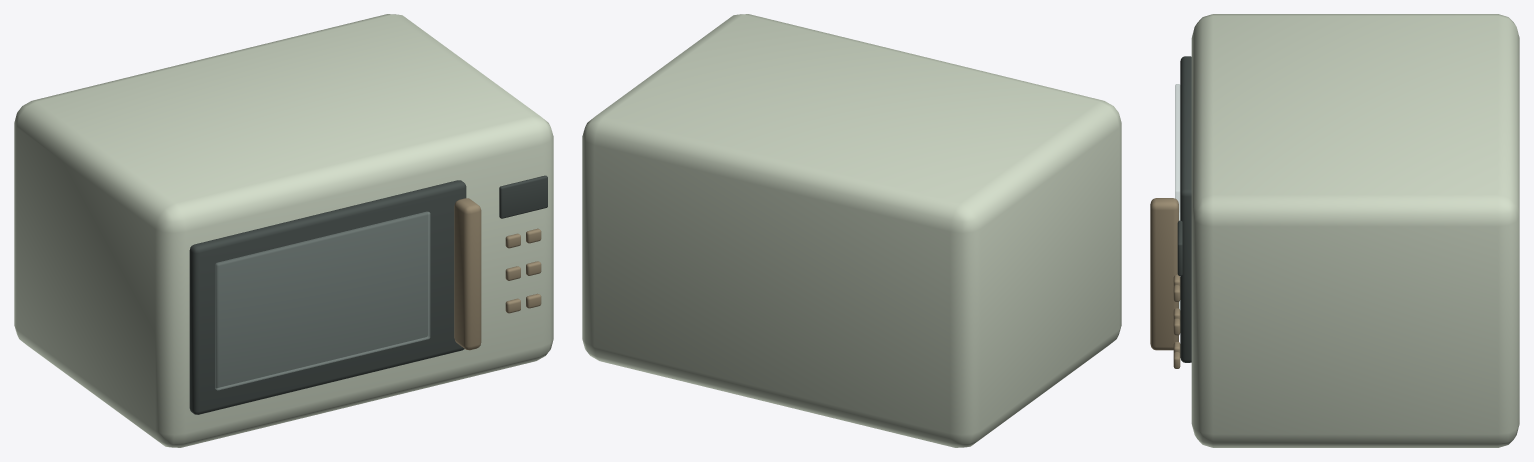
The model's file is countertop-microwave.glb.
3 views of the same model, side by side, from view 1: azimuth 30°, elevation 25°; view 2: azimuth 150°, elevation 25°; view 3: azimuth 270°, elevation 25° (orthographic). The views are drawn at different scales.
Visible parts, largest first — view 1: countertop-microwave; view 2: countertop-microwave; view 3: countertop-microwave.
Boxes of the visible parts, left/top/right/bottom form: countertop-microwave: left=14, top=14, right=553, bottom=447; countertop-microwave: left=582, top=14, right=1121, bottom=447; countertop-microwave: left=1150, top=14, right=1519, bottom=447.
Size of the model in its own units: 0.51 by 0.3 by 0.4.
